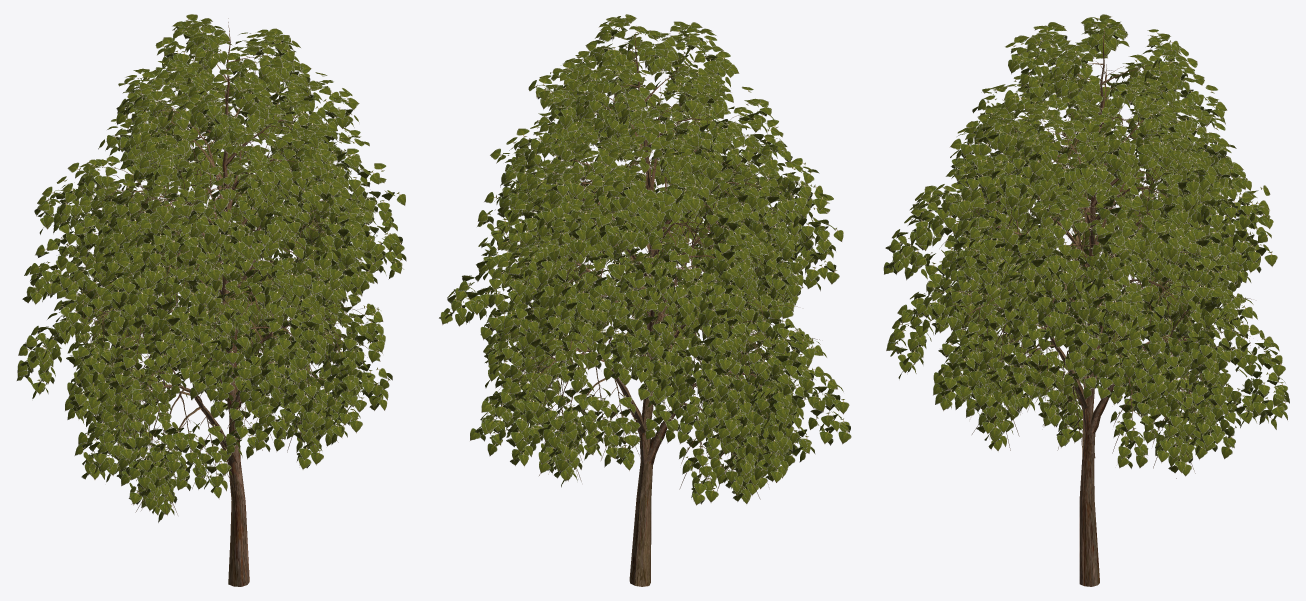
3 renders of one model, left to right at view 1: azimuth 30°, elevation 25°; view 2: azimuth 150°, elevation 25°; view 3: azimuth 270°, elevation 25°, orthographic.
Visible parts, largest first — view 1: sub01, sub02; view 2: sub01, sub02; view 3: sub01, sub02.
Part boxes in pixels (box(x1,y1,x2,y2)): sub01: box(34, 14, 406, 586); sub02: box(16, 129, 392, 522); sub01: box(477, 14, 843, 586); sub02: box(439, 123, 851, 505); sub01: box(910, 14, 1277, 586); sub02: box(883, 119, 1289, 476).
Size of the model in its own units: 507 by 792 by 522.
Materials: 5 (5 with a texture image).
